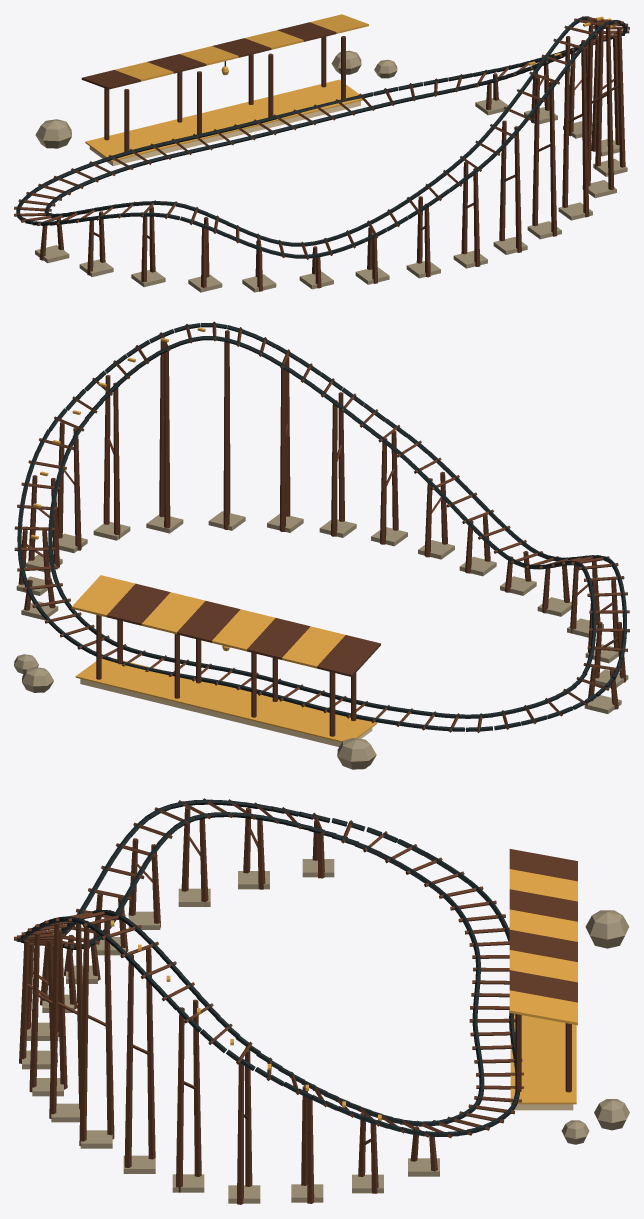
Rendered from ParkParkMineTrack.obj.
3 views of the same model, one above another, from view 1: azimuth 30°, elevation 25°; view 2: azimuth 150°, elevation 25°; view 3: azimuth 270°, elevation 25° (orthographic). The views are drawn at different scales.
Visible parts, largest first — view 1: ParkParkMineTrack; view 2: ParkParkMineTrack; view 3: ParkParkMineTrack.
Boxes of the visible parts, x1=… form: ParkParkMineTrack: x1=14, y1=14, x2=629, y2=292; ParkParkMineTrack: x1=14, y1=321, x2=629, y2=769; ParkParkMineTrack: x1=14, y1=798, x2=629, y2=1204.
Size of the model in its own units: 36.22 by 11.32 by 27.05.
